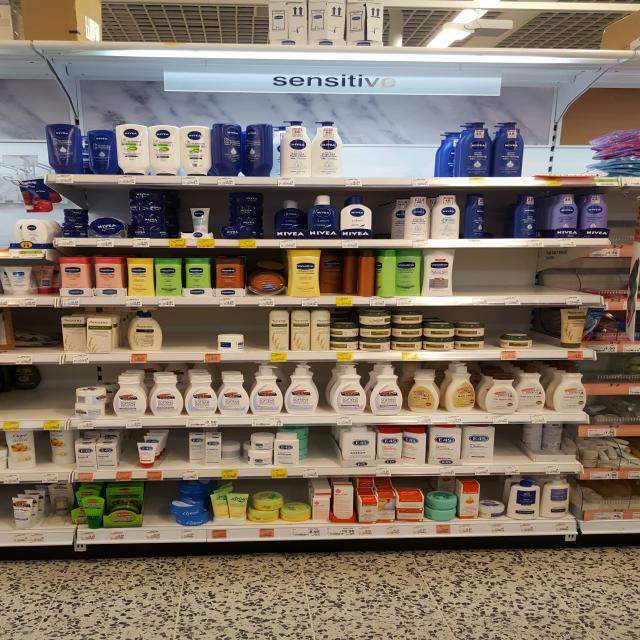void: (345, 119, 390, 187), (395, 122, 436, 185), (458, 249, 498, 307), (36, 370, 71, 430), (0, 369, 34, 429), (533, 250, 569, 306), (499, 249, 532, 305), (2, 310, 32, 364), (192, 309, 220, 364), (35, 308, 61, 366), (163, 308, 190, 361), (309, 428, 337, 476), (535, 310, 557, 359), (498, 425, 520, 473), (146, 484, 167, 526)
